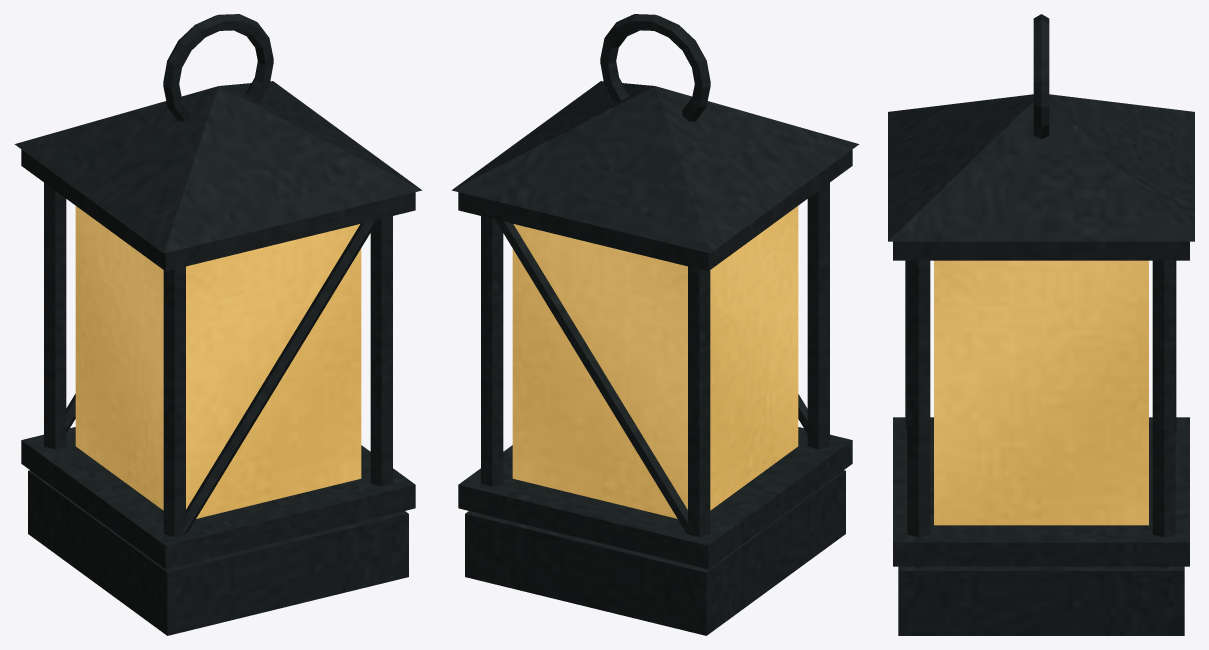
The picture shows the model from 3 angles, left to right: view 1: azimuth 30°, elevation 25°; view 2: azimuth 150°, elevation 25°; view 3: azimuth 270°, elevation 25°; orthographic projection. The views are drawn at different scales.
Visible parts, largest first — view 1: lantern; view 2: lantern; view 3: lantern.
Part boxes in pixels (x1,y1,x2,y2): lantern: [14, 14, 422, 635]; lantern: [451, 14, 859, 635]; lantern: [888, 14, 1194, 635].
Bounding box in the file's own units: 0.3 × 0.599 × 0.3.
3 materials, 3 textured.
